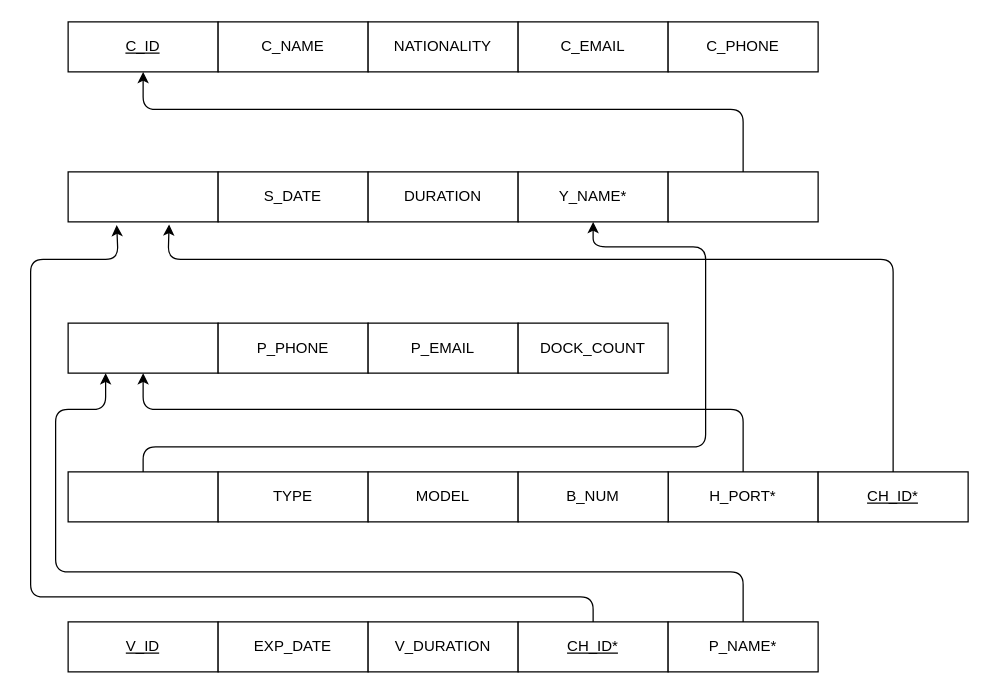
The diagram is 990 pixels wide and 694 high, and some of its shapes have lost their labels. Here are the shapes that lost their labels. From the top down, the centre of each, then its label:
At point 142,196: "CH_ID".
At point 742,196: "C_ID*".
At point 142,347: "P_NAME".
At point 142,496: "Y_NAME".
